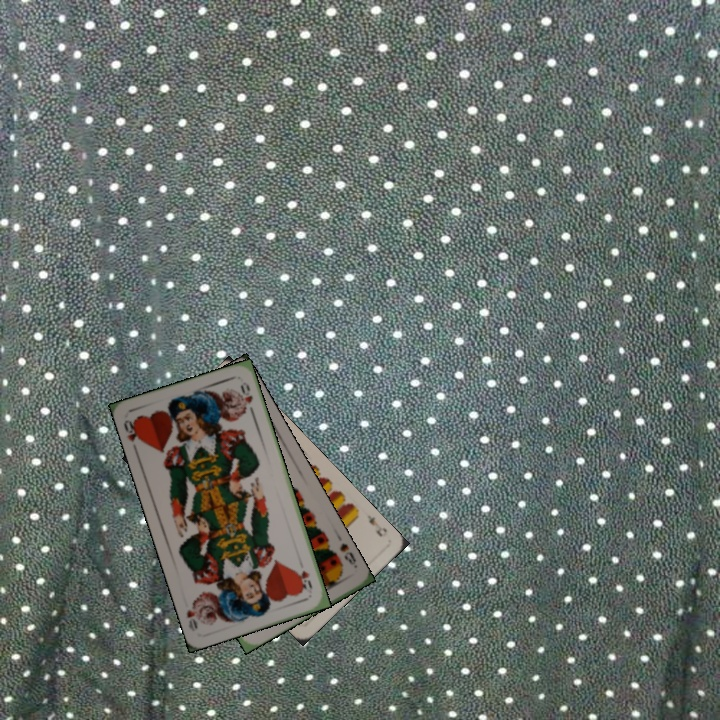E9: (363, 511, 390, 539)
HO: (119, 415, 146, 446), (295, 566, 315, 593)
S8: (336, 539, 360, 571)
